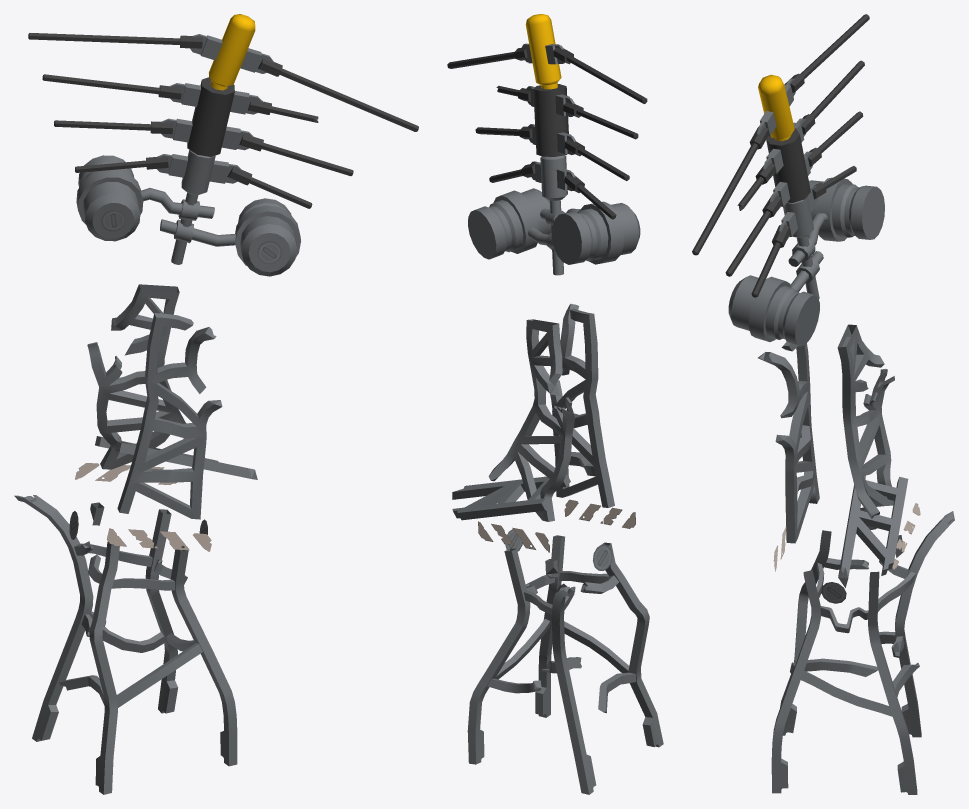
File: env_ruin_antenna_lod0.fbx
3 views of the same model, side by side, from view 1: azimuth 30°, elevation 25°; view 2: azimuth 150°, elevation 25°; view 3: azimuth 270°, elevation 25° (orthographic). The views are drawn at different scales.
Visible parts, largest first — view 1: env_ruin_antenna01; view 2: env_ruin_antenna01; view 3: env_ruin_antenna01.
Part boxes in pixels (x1,y1,x2,y2): env_ruin_antenna01: [14, 14, 418, 794]; env_ruin_antenna01: [447, 14, 663, 794]; env_ruin_antenna01: [692, 14, 954, 794].
Bounding box in the file's own units: 53.96 × 128 × 42.4.
